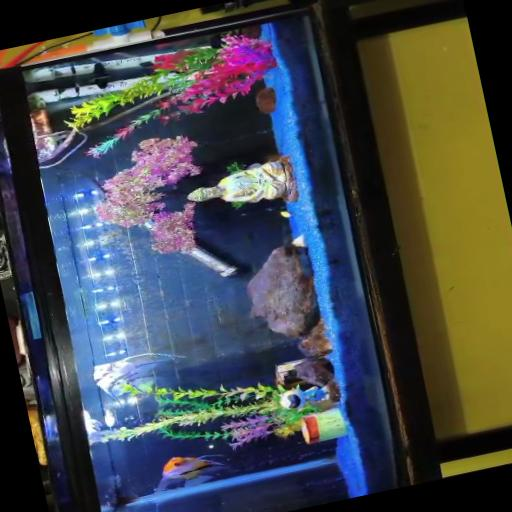Fish: (93, 352, 185, 399), (157, 454, 231, 490), (83, 410, 106, 443), (281, 210, 291, 217)
